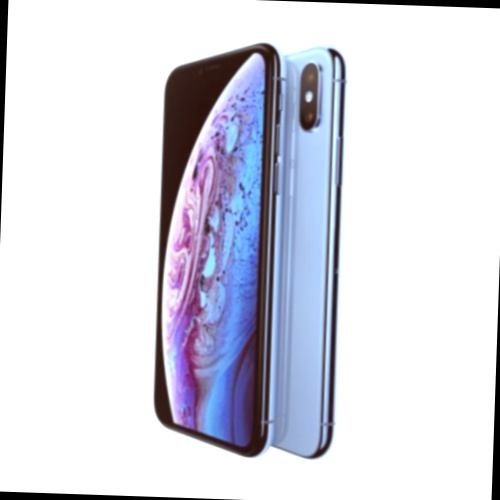iphone: (220, 42, 343, 457)
